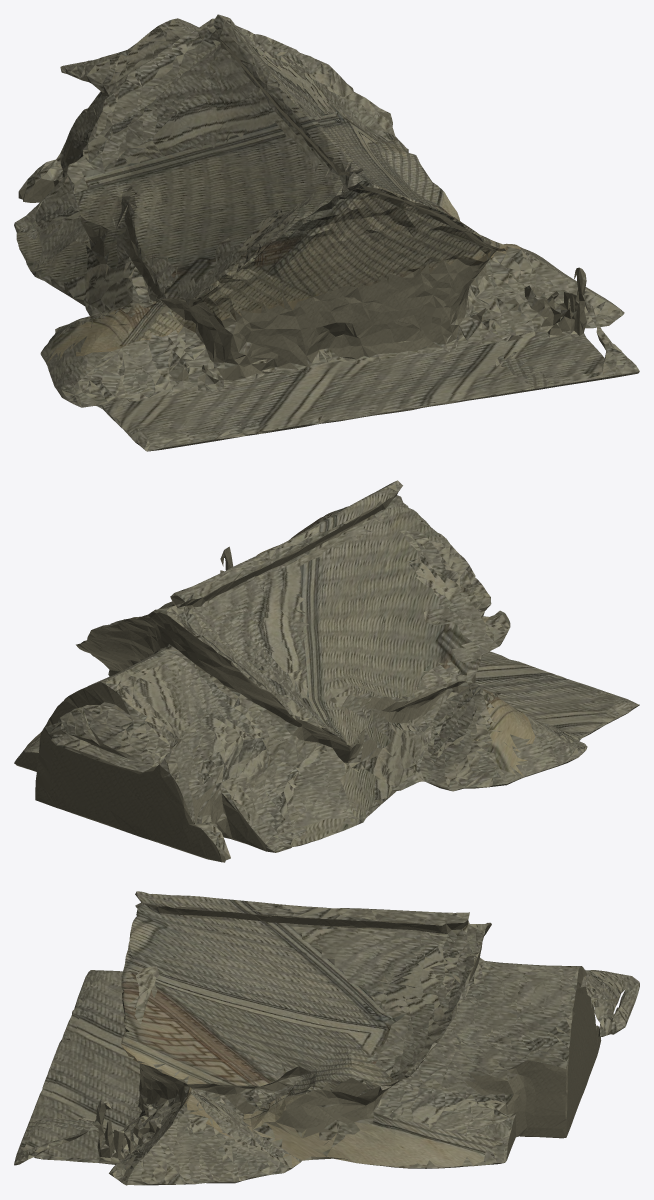
3 renders of one model, top to bottom at view 1: azimuth 30°, elevation 25°; view 2: azimuth 150°, elevation 25°; view 3: azimuth 270°, elevation 25°, orthographic. The views are drawn at different scales.
Parts seen in each view (by area): view 1: roof, painted, wall; view 2: roof, painted, wall; view 3: roof, painted, wall.
Boxes of the visible parts, bbox=[...] form: roof: bbox=[14, 14, 639, 451]; painted: bbox=[16, 103, 564, 389]; wall: bbox=[18, 26, 639, 451]; roof: bbox=[14, 484, 638, 857]; painted: bbox=[23, 480, 535, 846]; wall: bbox=[15, 489, 639, 862]; roof: bbox=[14, 902, 639, 1185]; painted: bbox=[25, 891, 503, 1168]; wall: bbox=[14, 903, 639, 1185].
Bounding box in the file's own units: 17.69 × 6.96 × 21.43.
3 materials, 3 textured.
